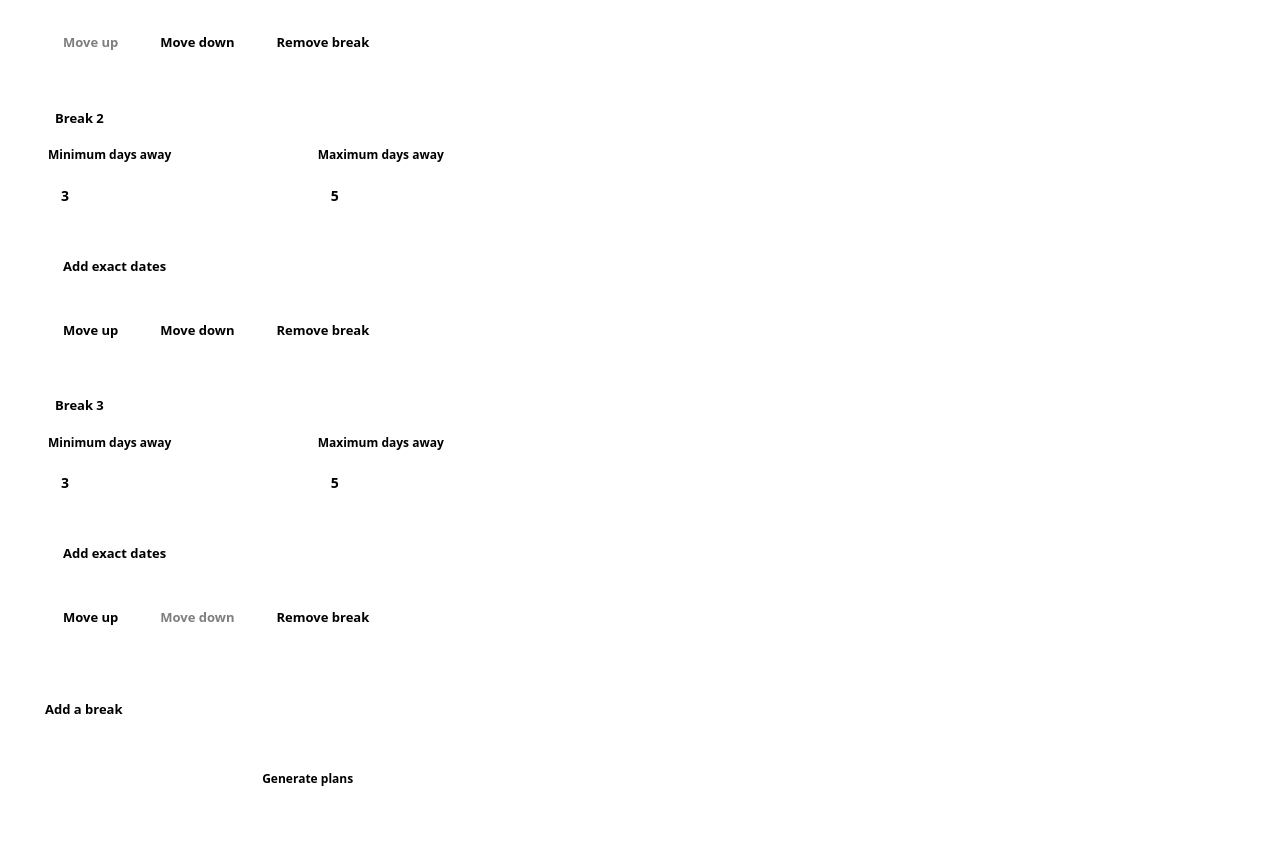
it: the conflict outcome gives precise recovery without declaring a valid plan
This screenshot has width=1280, height=845.
(page scrolled)
Step 1. Click the button "Generate plans" → [308, 779], box [30, 756, 585, 802]
(page scrolled)
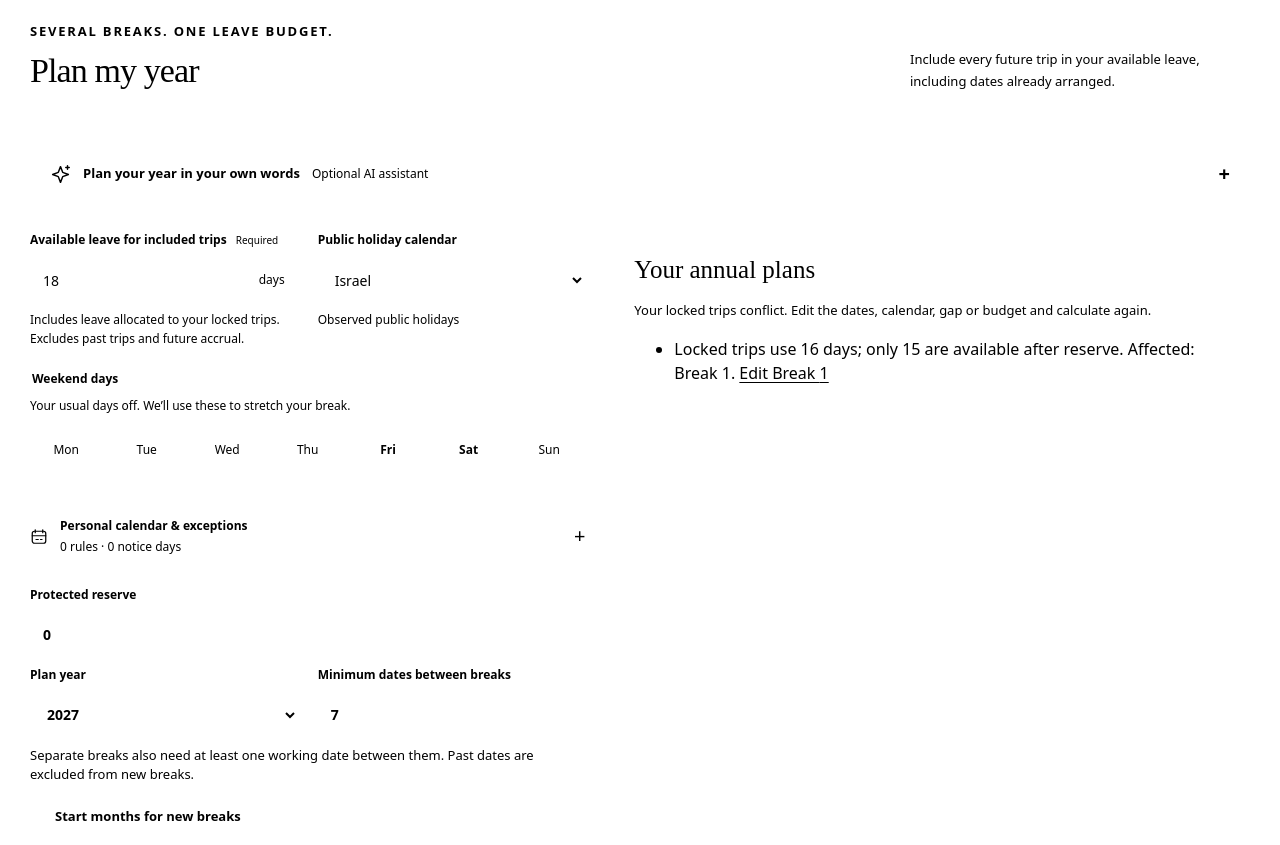
Result: the list item "Locked trips use 16 days; only 15 are available after reserve." is shown at [674, 338, 1124, 360]
